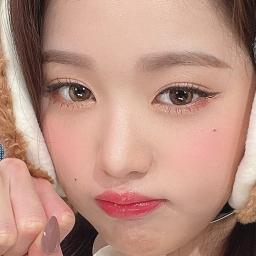face: (58, 0, 230, 256)
